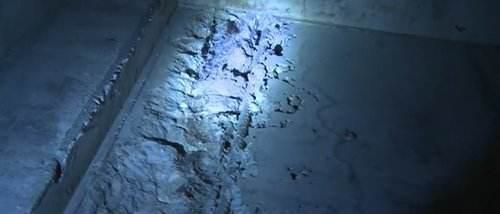Exposed reinforcement: (215, 26, 271, 214)
Spalling: (88, 8, 321, 214)
